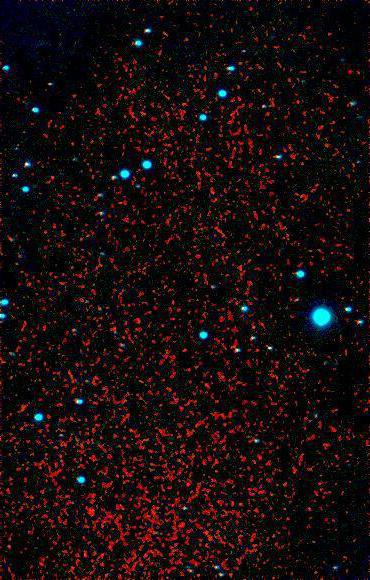star: (80, 499, 110, 529)
